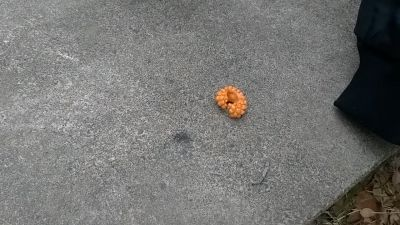eggs: (216, 85, 249, 120)
